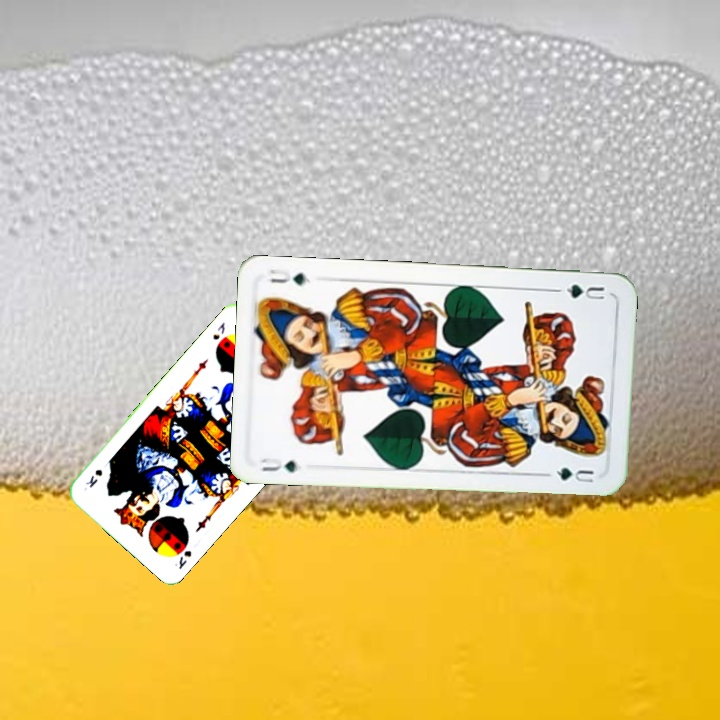GU: (552, 280, 607, 303), (257, 453, 301, 475)
SK: (171, 546, 194, 572), (208, 318, 228, 343)
